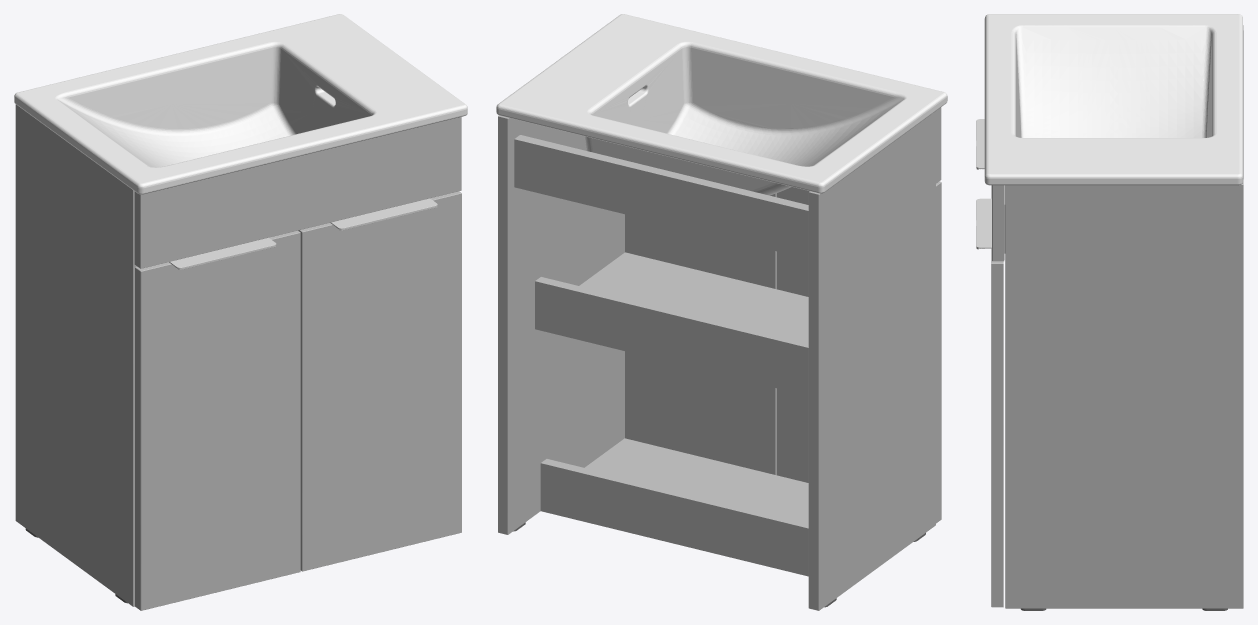
File: AEC_43442.glb
3 views of the same model, side by side, from view 1: azimuth 30°, elevation 25°; view 2: azimuth 150°, elevation 25°; view 3: azimuth 270°, elevation 25° (orthographic).
Visible parts, largest first — view 1: 0; view 2: 0; view 3: 0.
Boxes of the visible parts, x1=… form: 0: x1=14, y1=14, x2=467, y2=610; 0: x1=496, y1=14, x2=947, y2=610; 0: x1=976, y1=14, x2=1243, y2=610.
Size of the model in its own units: 0.5 by 0.626 by 0.3464.
1 material, 1 textured.
